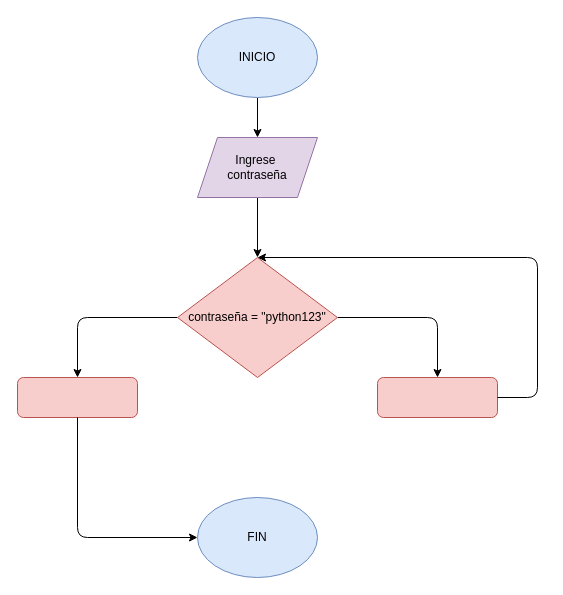
This 563x595 diagram has some shape labels left out. Each missing label, with the centre of its shape:
"Acceso Concedido": (x=77, y=397)
"Error": (x=437, y=397)
